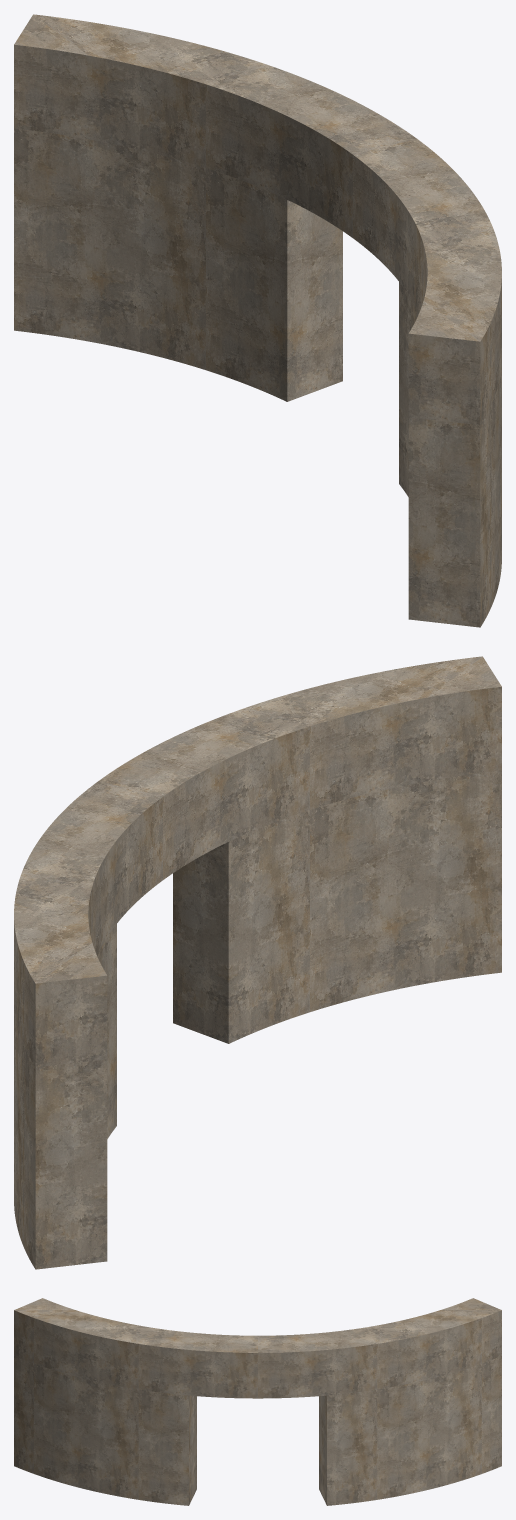
Rendered from silo-wall-portal.gltf.
3 renders of one model, top to bottom at view 1: azimuth 30°, elevation 25°; view 2: azimuth 150°, elevation 25°; view 3: azimuth 270°, elevation 25°, orthographic. The views are drawn at different scales.
Parts seen in each view (by area): view 1: component-exterior-22-concrete-0; view 2: component-exterior-22-concrete-0; view 3: component-exterior-22-concrete-0.
Boxes of the visible parts, box(x1,y1,x2,y2) form: component-exterior-22-concrete-0: box(14, 14, 501, 627); component-exterior-22-concrete-0: box(14, 656, 501, 1269); component-exterior-22-concrete-0: box(14, 1298, 501, 1505).
Bounding box in the file's own units: 3.2 × 4.24 × 12.02.
Materials: 1 (1 with a texture image).
